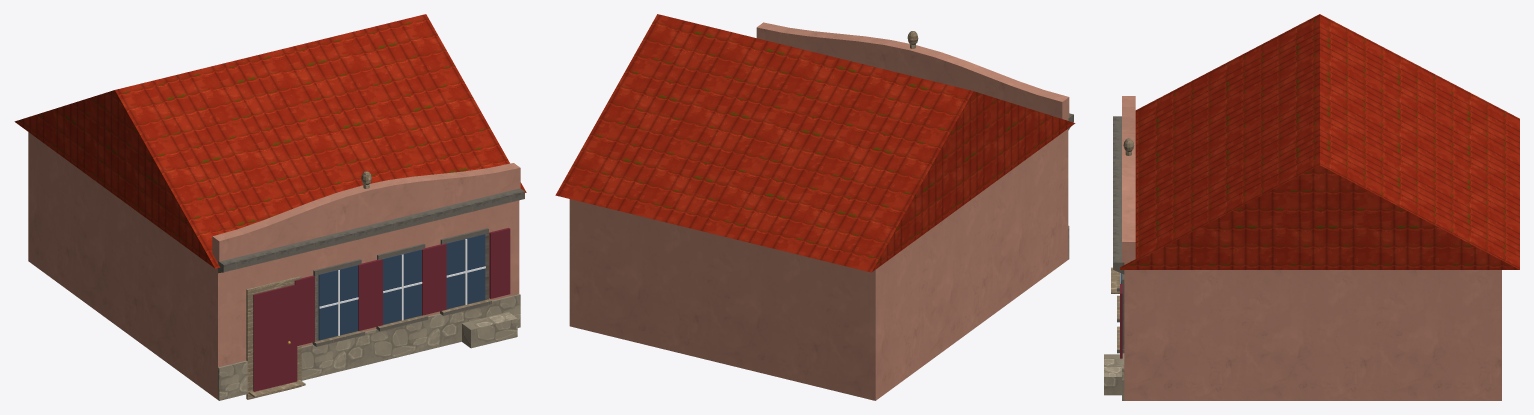
The model's file is terrea_w8_1.gltf.
The picture shows the model from 3 angles, left to right: view 1: azimuth 30°, elevation 25°; view 2: azimuth 150°, elevation 25°; view 3: azimuth 270°, elevation 25°; orthographic projection. The views are drawn at different scales.
Visible parts, largest first — view 1: terrea_w8_1; view 2: terrea_w8_1; view 3: terrea_w8_1.
Part boxes in pixels (left/top/right/bottom): terrea_w8_1: left=14, top=14, right=526, bottom=400; terrea_w8_1: left=555, top=14, right=1075, bottom=400; terrea_w8_1: left=1104, top=14, right=1519, bottom=400.
Size of what is drawn, in the model's own units: 7.96 by 5.99 by 9.25.
7 materials, 4 textured.
